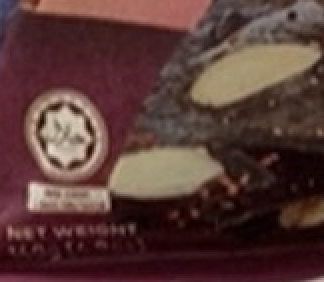halal: (44, 116, 89, 158)
